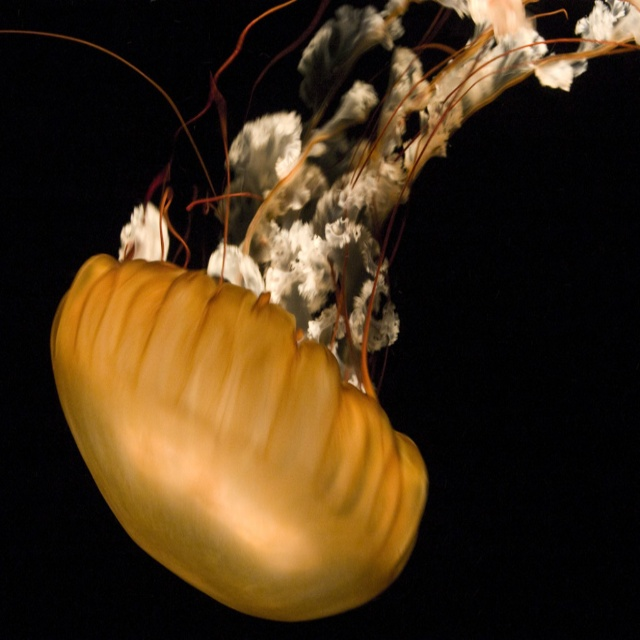Jellyfish: (37, 173, 447, 609)
